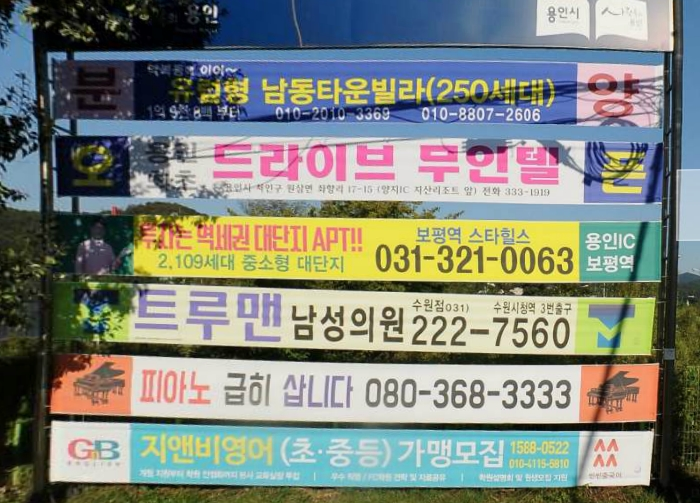banner: (22, 53, 686, 142), (35, 126, 687, 213), (33, 276, 679, 359), (36, 202, 675, 285), (35, 346, 676, 427), (31, 412, 678, 491)
